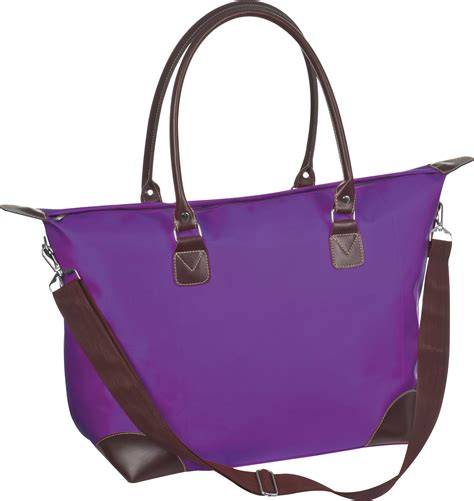nylon: (5, 156, 446, 481)
